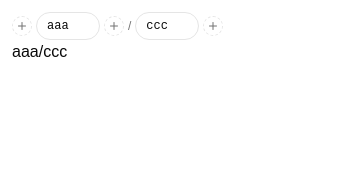
Scenario: SegmentedPathInput › inserts a level after the last segment
Click the button named "在 ccc 后添加层级". click: (213, 26)
box: left=203, top=16, right=223, bottom=36
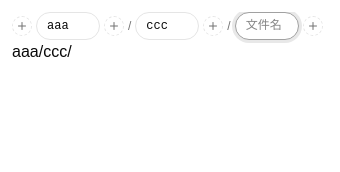
Type "file" into the field with placeholder "文件名". click: (267, 26)
box: left=235, top=12, right=299, bottom=40
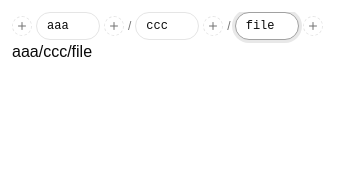
Expected: the field with test id "path-dir-0" holds "aaa", left=36, top=12, right=100, bottom=40
Now the text with test id "joined" reads "aaa/ccc/file", box left=12, top=43, right=92, bottom=60
